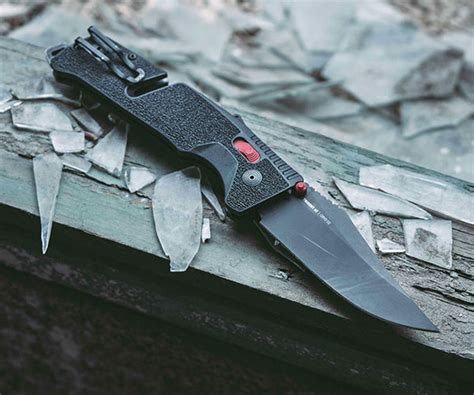knife: (46, 26, 442, 335)
